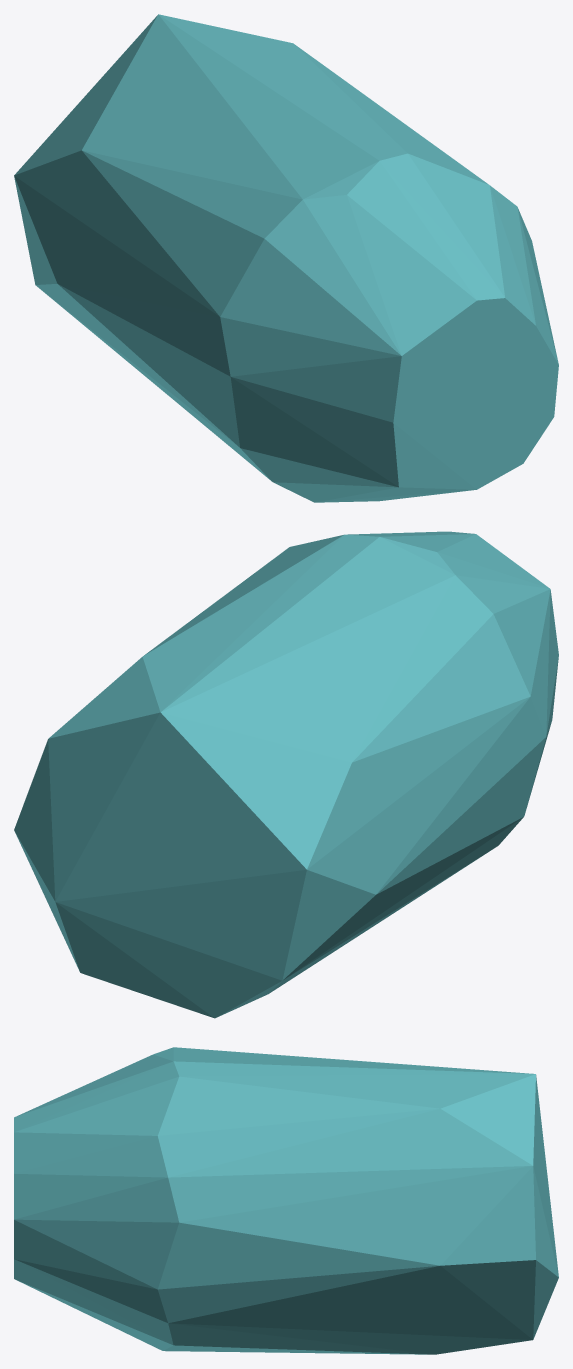
The model's file is bottle_laboratory_c01.glb.
The picture shows the model from 3 angles, top to bottom: view 1: azimuth 30°, elevation 25°; view 2: azimuth 150°, elevation 25°; view 3: azimuth 270°, elevation 25°; orthographic projection. The views are drawn at different scales.
Visible parts, largest first — view 1: geometry_0; view 2: geometry_0; view 3: geometry_0.
Boxes of the visible parts, left/top/right/bottom form: geometry_0: left=14, top=14, right=558, bottom=502; geometry_0: left=14, top=531, right=558, bottom=1018; geometry_0: left=14, top=1047, right=558, bottom=1354.
Size of the model in its own units: 0.2679 by 0.271 by 0.48.
